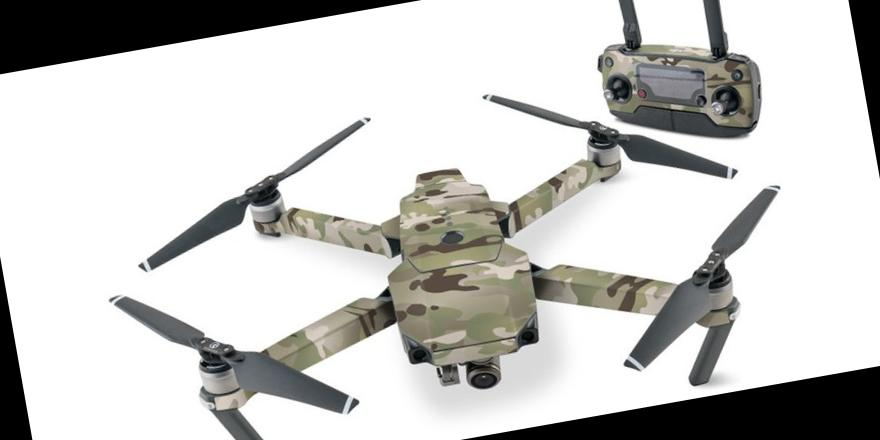drone: (103, 43, 806, 440)
